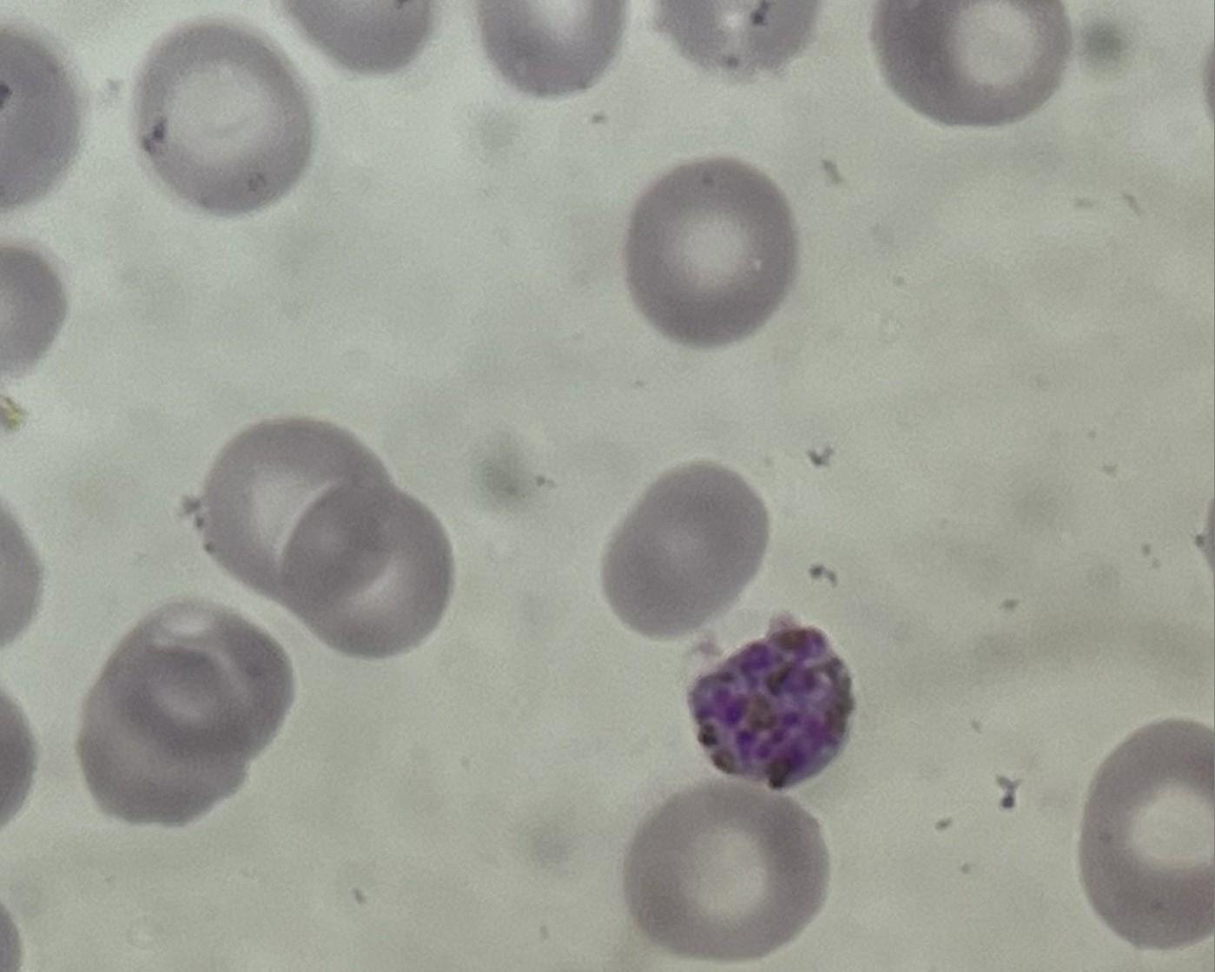Infected: (690, 624, 845, 793)
Uninfected: (83, 609, 298, 828), (200, 418, 395, 606), (137, 18, 316, 218), (625, 785, 831, 955), (630, 157, 803, 350), (278, 481, 452, 654), (1079, 720, 1215, 941), (606, 461, 767, 635)
